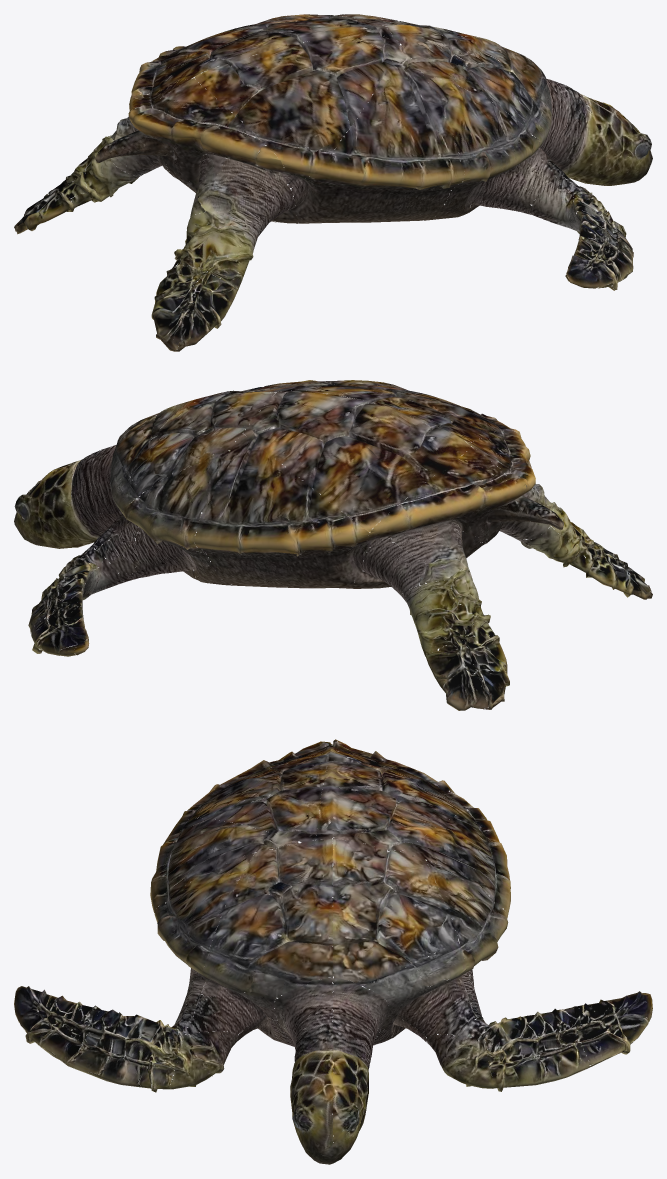
File: turtle.glb
3 views of the same model, one above another, from view 1: azimuth 30°, elevation 25°; view 2: azimuth 150°, elevation 25°; view 3: azimuth 270°, elevation 25° (orthographic).
Parts seen in each view (by area): view 1: tripo_node_3990d97f-cd06-478b-bb7a-120ffcb1114e; view 2: tripo_node_3990d97f-cd06-478b-bb7a-120ffcb1114e; view 3: tripo_node_3990d97f-cd06-478b-bb7a-120ffcb1114e.
Boxes of the visible parts, x1=… form: tripo_node_3990d97f-cd06-478b-bb7a-120ffcb1114e: x1=14, y1=14, x2=652, y2=351; tripo_node_3990d97f-cd06-478b-bb7a-120ffcb1114e: x1=14, y1=380, x2=652, y2=710; tripo_node_3990d97f-cd06-478b-bb7a-120ffcb1114e: x1=14, y1=739, x2=652, y2=1164.
Size of the model in its own units: 1 by 0.3759 by 0.9903.
1 material, 1 textured.
